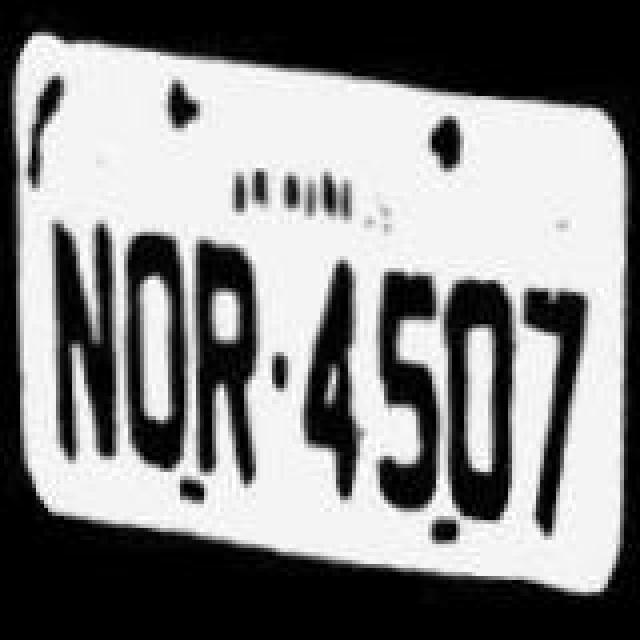4: (292, 250, 372, 514)
5: (366, 252, 450, 520)
7: (512, 242, 600, 550)
N: (40, 206, 124, 482)
O: (440, 264, 520, 528), (116, 224, 188, 484)
R: (188, 234, 276, 490)
